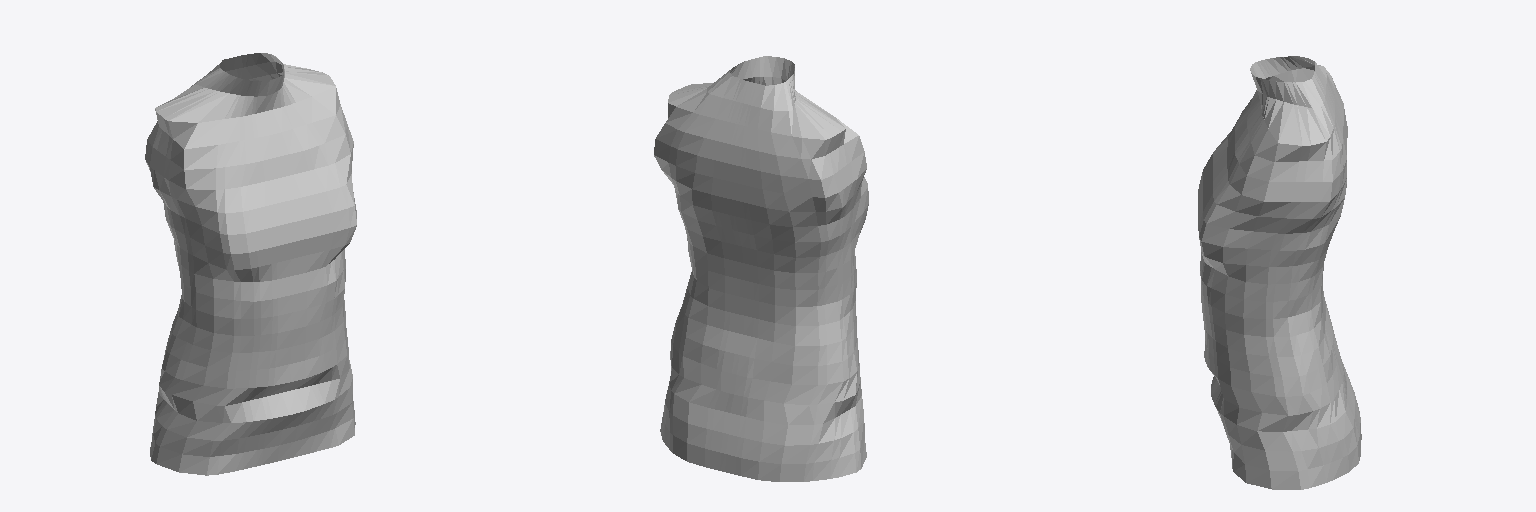
The model's file is Dress.obj.
3 renders of one model, left to right at view 1: azimuth 30°, elevation 25°; view 2: azimuth 150°, elevation 25°; view 3: azimuth 270°, elevation 25°, orthographic.
Bounding box in the file's own units: 3.41 × 6.3 × 2.49.